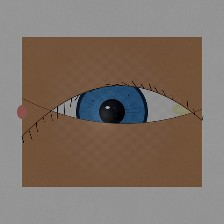pinguecula_lesion: (161, 93, 203, 126)
